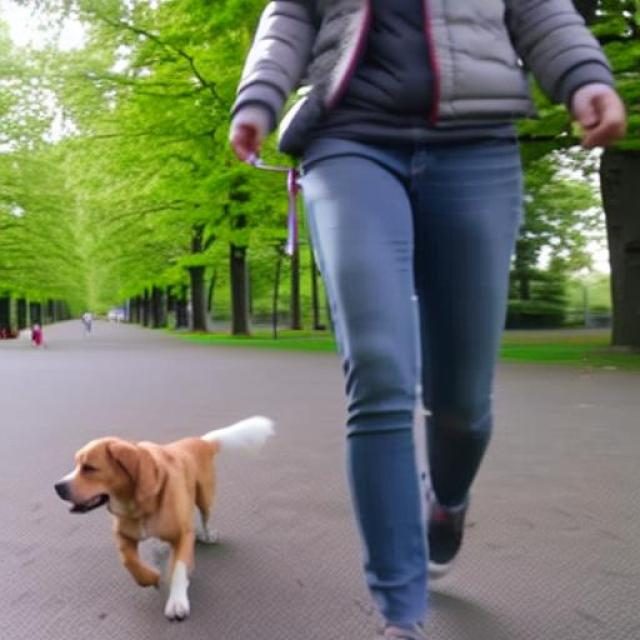Unleashed_Dog: (52, 154, 452, 622)
